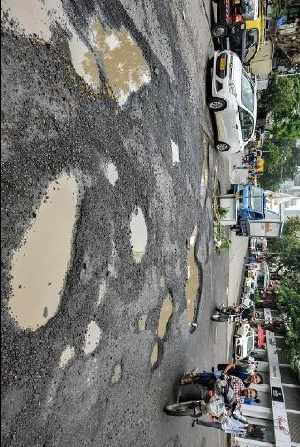pothole: (6, 166, 87, 333), (68, 1, 156, 108), (1, 0, 65, 46), (182, 220, 205, 333), (126, 205, 151, 263), (198, 132, 212, 209), (155, 288, 176, 339), (82, 321, 105, 357), (58, 343, 77, 371), (147, 341, 164, 369), (108, 361, 126, 387), (169, 137, 183, 165), (106, 159, 119, 187), (137, 311, 148, 333)
